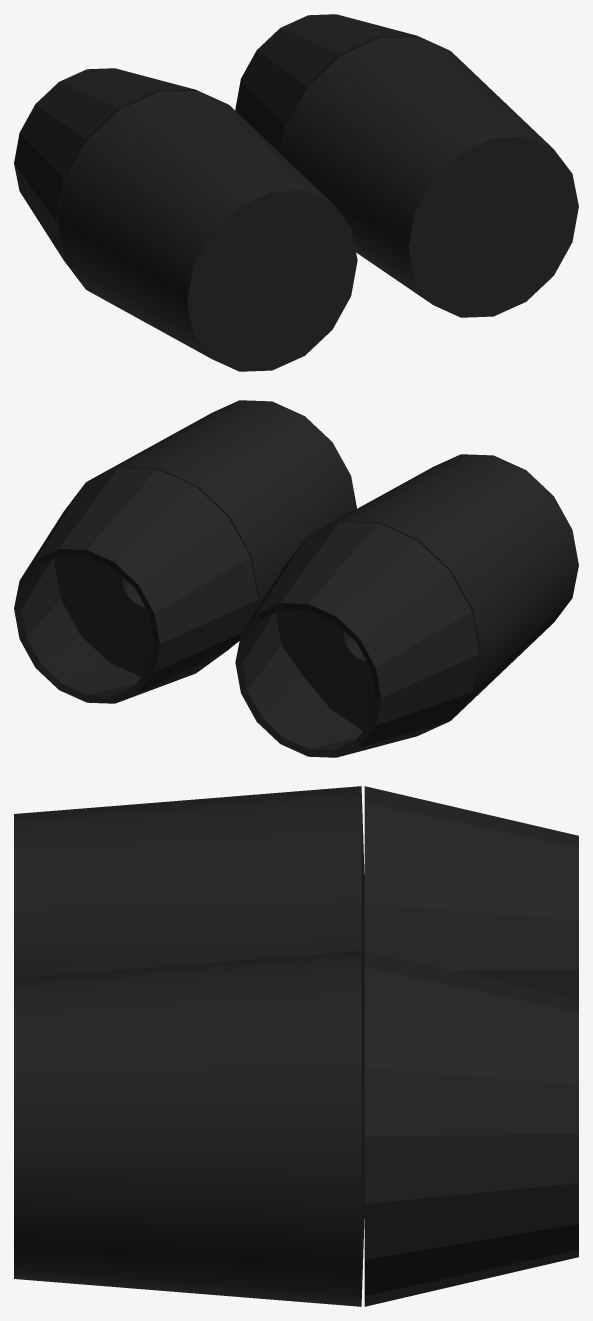
Rendered from 1_Thruster.fbx.
3 renders of one model, top to bottom at view 1: azimuth 30°, elevation 25°; view 2: azimuth 150°, elevation 25°; view 3: azimuth 270°, elevation 25°, orthographic. The views are drawn at different scales.
Visible parts, largest first — view 1: fighter1.002; view 2: fighter1.002; view 3: fighter1.002.
Boxes of the visible parts, x1=… form: fighter1.002: x1=14, y1=14, x2=578, y2=371; fighter1.002: x1=14, y1=400, x2=578, y2=757; fighter1.002: x1=14, y1=786, x2=578, y2=1306.
Bounding box in the file's own units: 0.6312 × 0.3015 × 0.478.
1 material, 1 textured.
